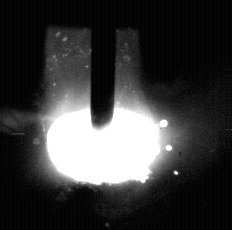arame: (91, 0, 115, 129)
poca: (46, 0, 160, 230)
